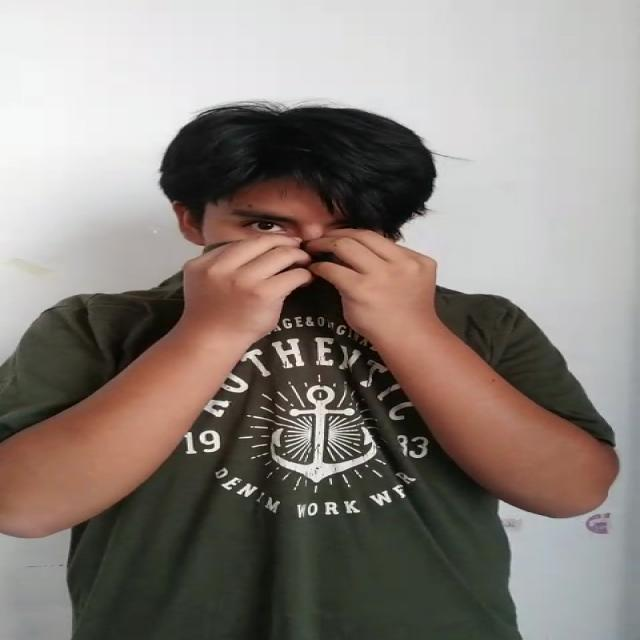8_ropa_rostro: (118, 239, 480, 353)
